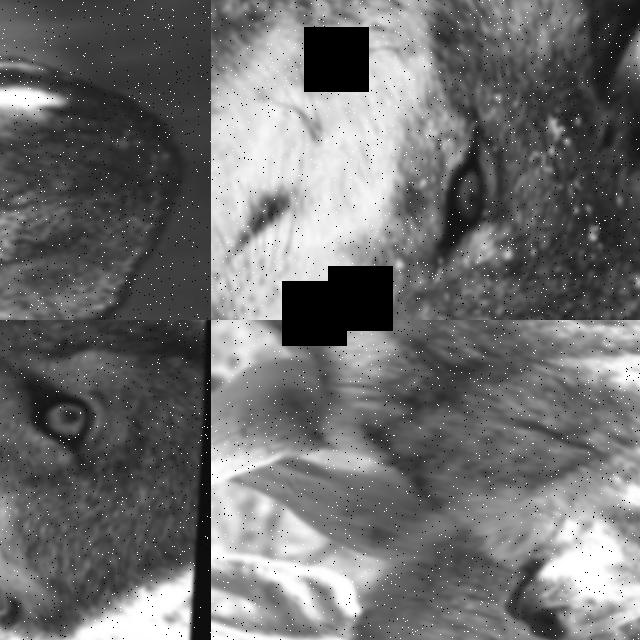wolf: (211, 0, 640, 320), (211, 320, 640, 640), (0, 0, 211, 320), (0, 320, 211, 640)
